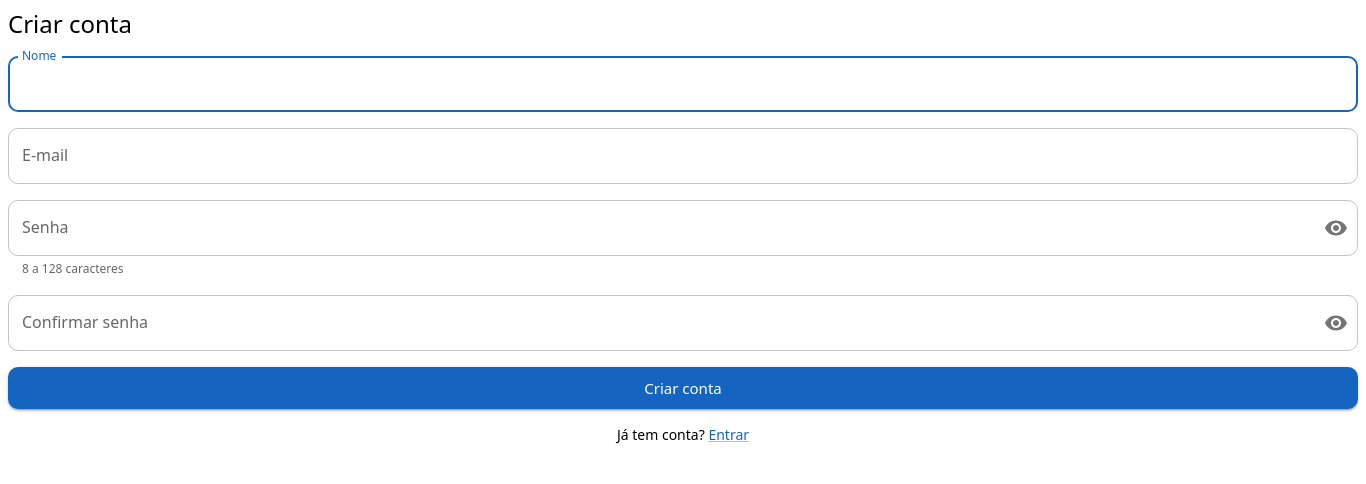
Registro: erros do servidor › e-mail existente com outra caixa também dá 409 (o backend normaliza)
Type "Caio Souza" into the field labelled "Nome" at {"x": 683, "y": 84}, box [8,56,1358,112]
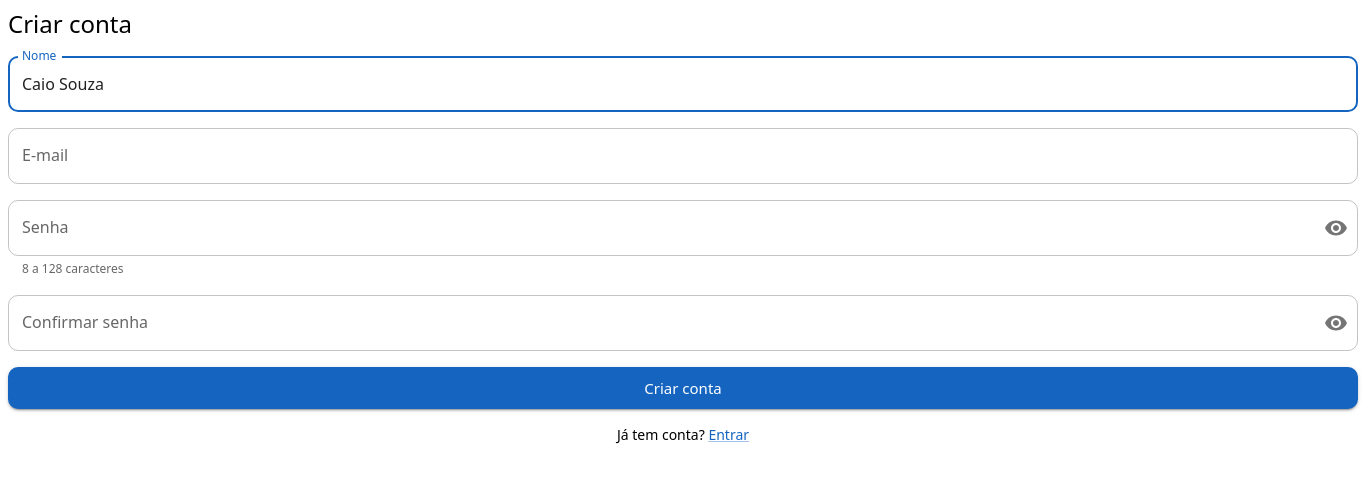
Type "ANA@Example.com" into the field labelled "E-mail" at {"x": 683, "y": 156}, box [8,128,1358,184]
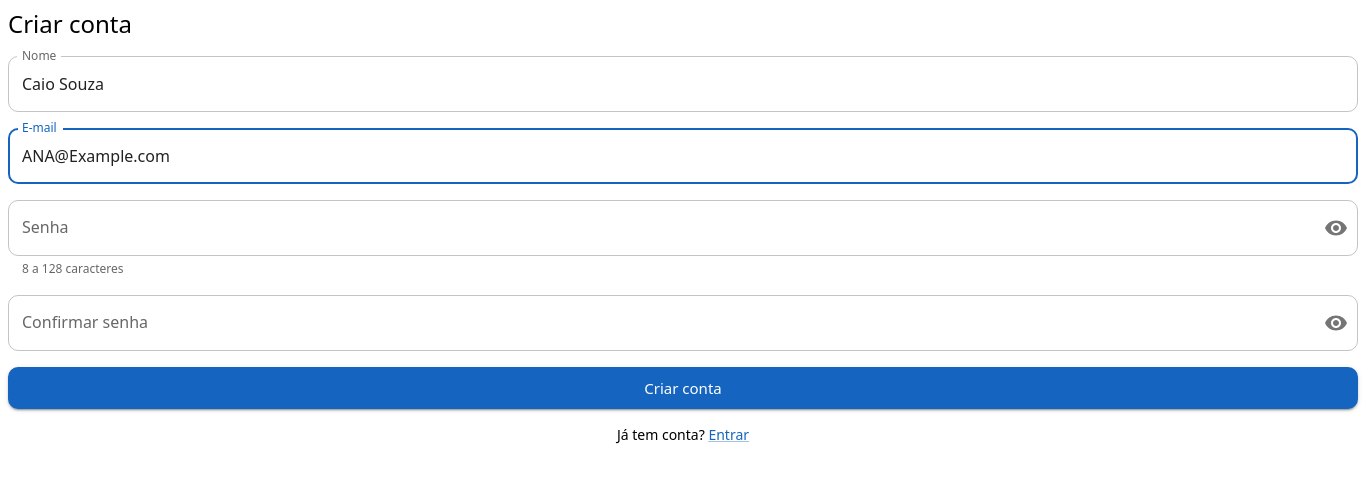
Type "uma senha longa" into the password field labelled "Senha" at {"x": 658, "y": 228}, box [8,200,1308,256]
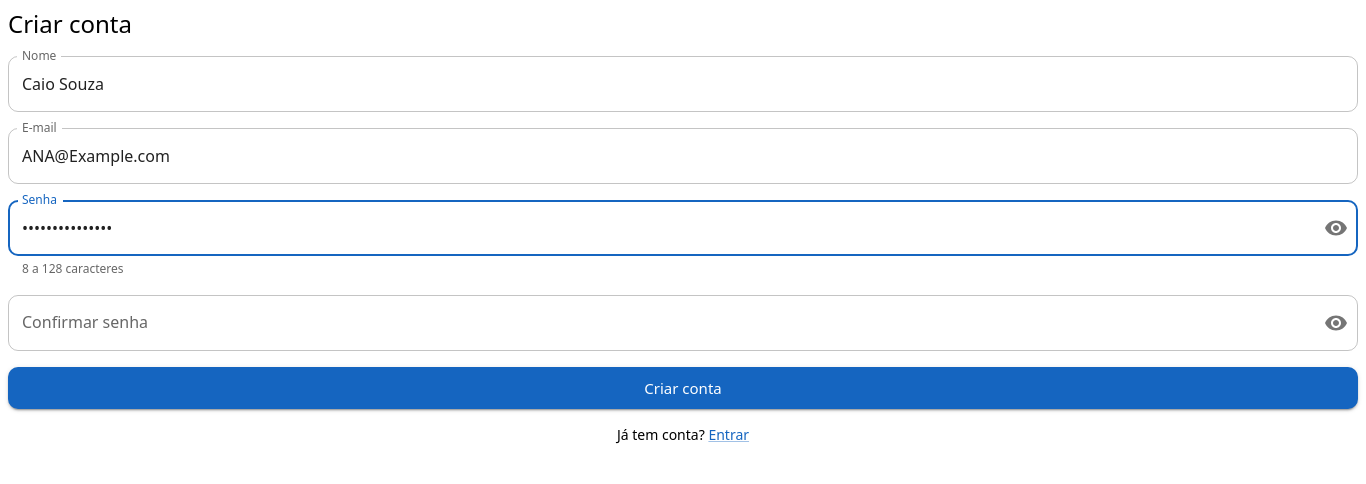
Type "uma senha longa" into the password field labelled "Confirmar senha" at {"x": 658, "y": 323}, box [8,295,1308,351]
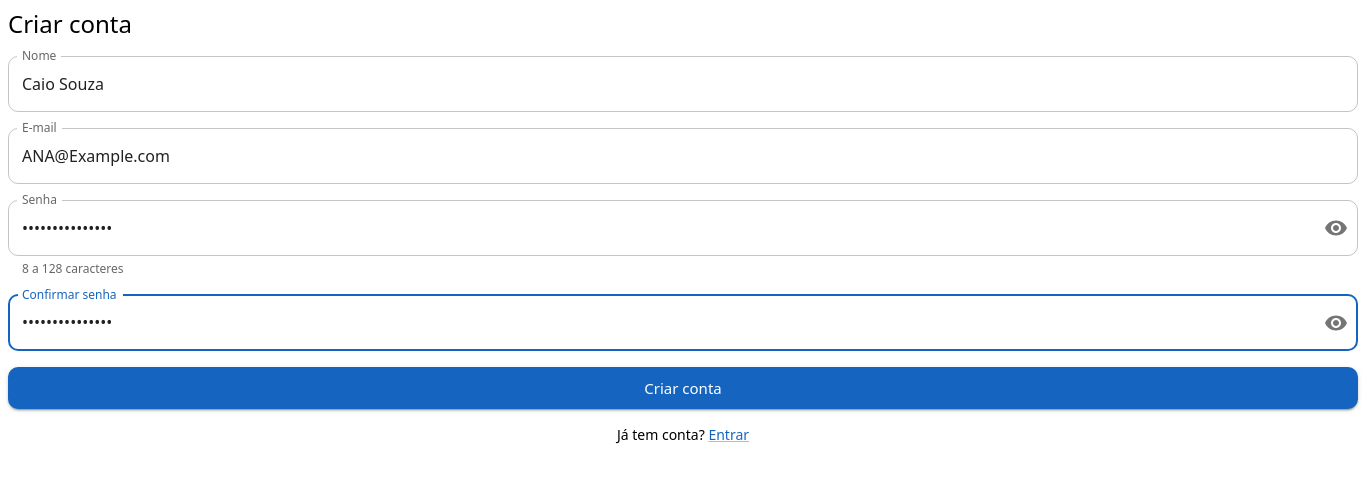
Click the button "Criar conta" at {"x": 683, "y": 388}, box [8,367,1358,409]
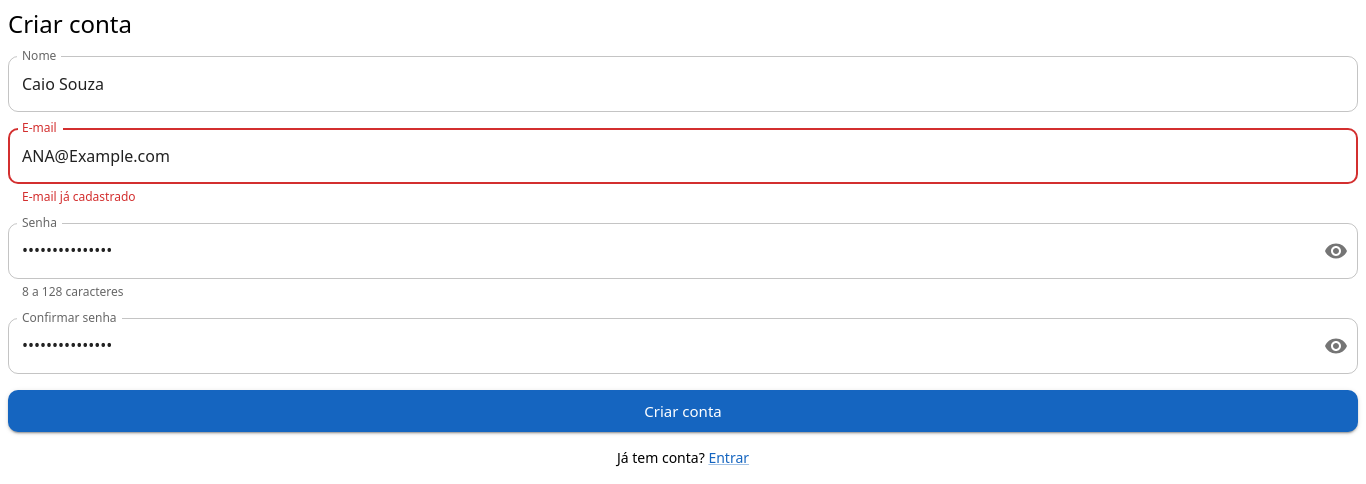
Expected: the text "E-mail já cadastrado" is shown, [22,188,136,205]
